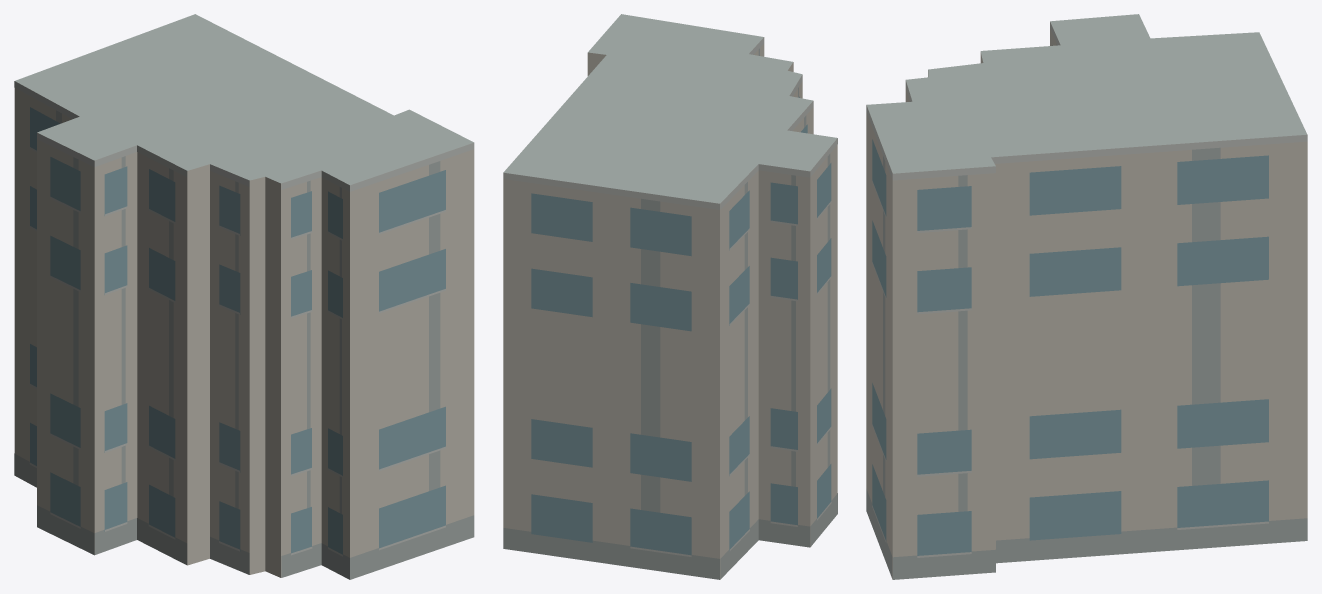
Rendered from survey-upis-32633249.glb.
3 views of the same model, side by side, from view 1: azimuth 30°, elevation 25°; view 2: azimuth 150°, elevation 25°; view 3: azimuth 270°, elevation 25° (orthographic). The views are drawn at different scales.
Visible parts, largest first — view 1: survey-upis-32633249.tmp; view 2: survey-upis-32633249.tmp; view 3: survey-upis-32633249.tmp.
Boxes of the visible parts, bbox=[...] form: survey-upis-32633249.tmp: bbox=[14, 14, 474, 579]; survey-upis-32633249.tmp: bbox=[503, 14, 837, 579]; survey-upis-32633249.tmp: bbox=[866, 14, 1307, 579].
Bounding box in the file's own units: 12.23 × 14.5 × 14.28.
